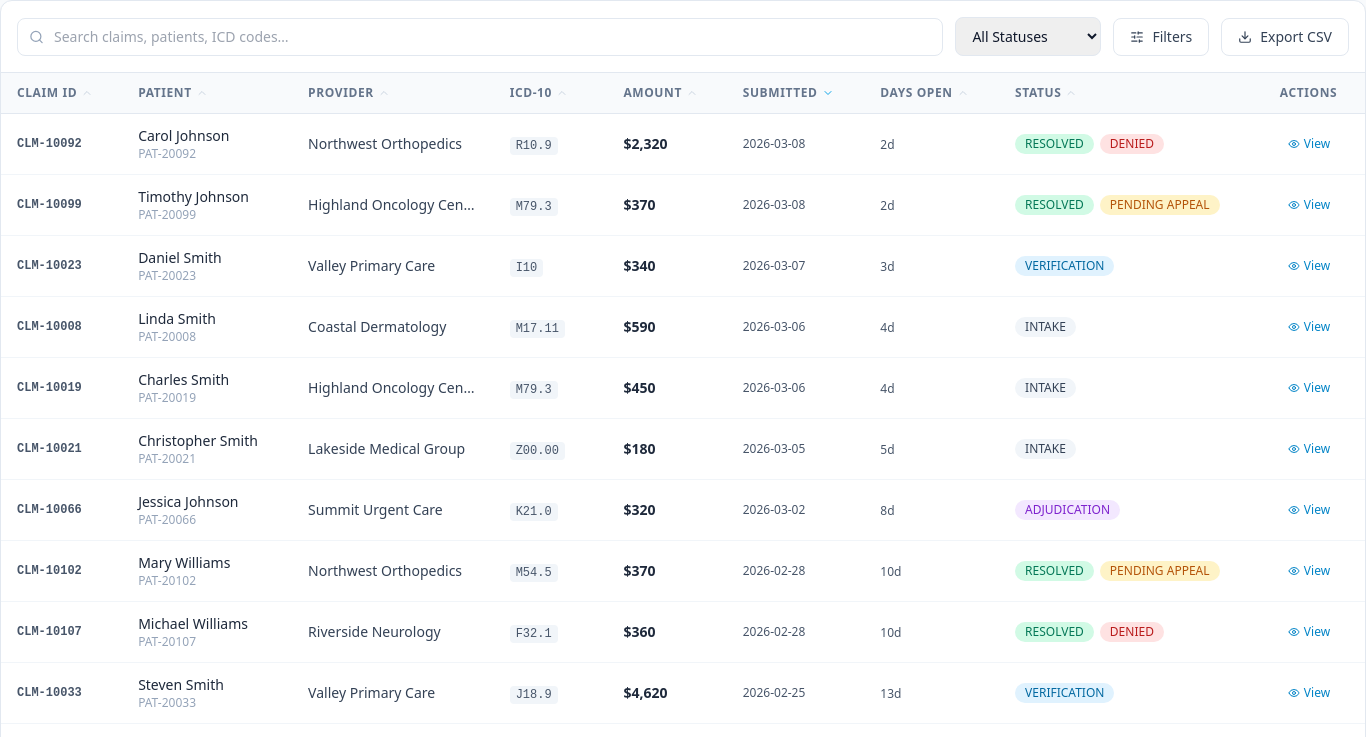
ClaimsTable › shows "no claims" message for unmatched search
Type "NONEXISTENT_CLAIM_ZZZZZZ" into the field with placeholder "Search claims, patients, ICD codes…" at (480, 36), box [17,18,943,56]
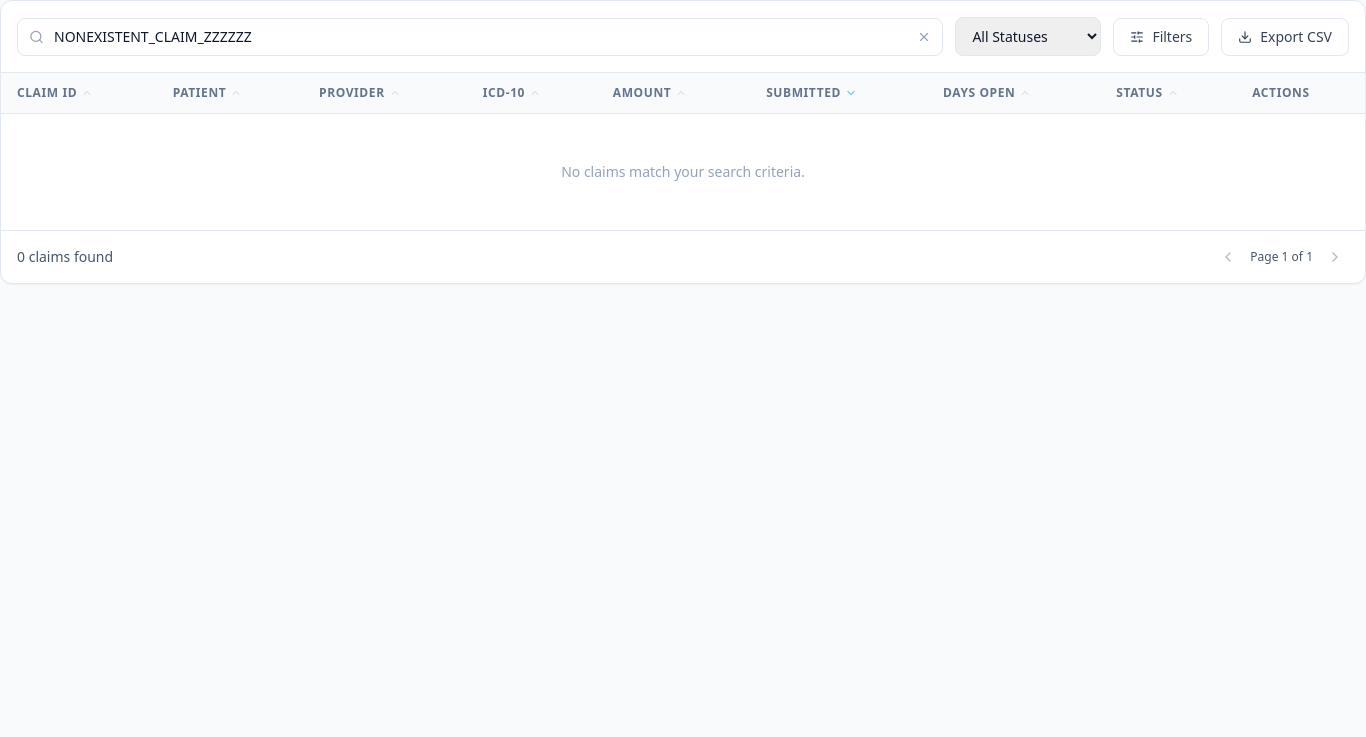
Check: the text "No claims match your search criteria." is shown, box [1,114,1365,230]
